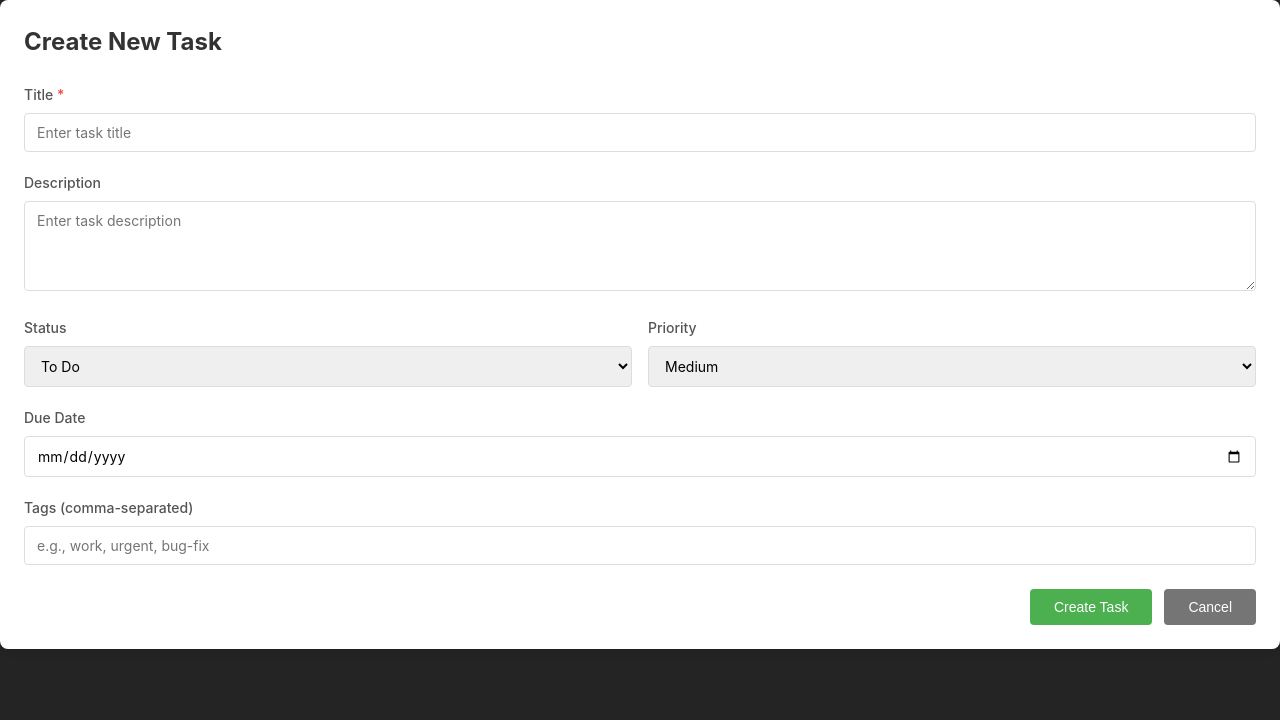
Test: TaskForm Component › Form Validation › should clear error when user starts typing in field
Click the button "Create Task": (1091, 607) [1030, 589, 1152, 625]
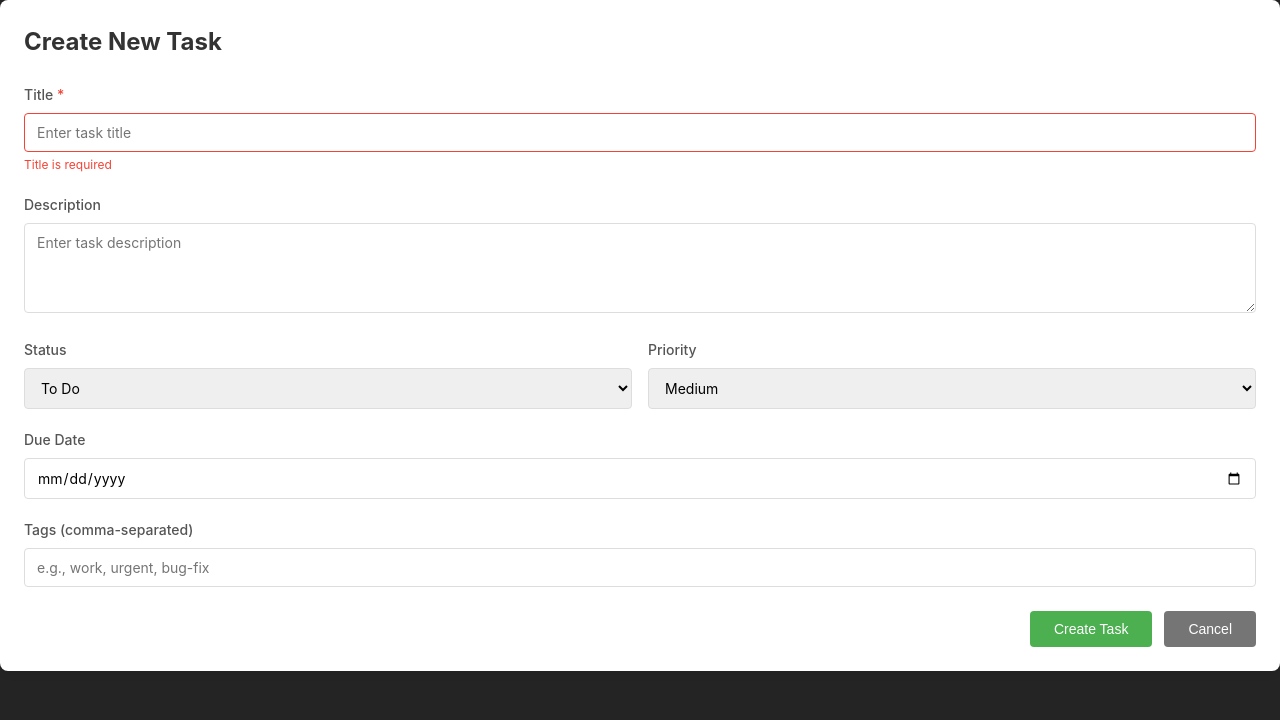
expect the text "Title is required" is shown: met, box [24, 157, 112, 172]
In the field labelled "Title *": (640, 132) [24, 113, 1256, 152], type "New title"
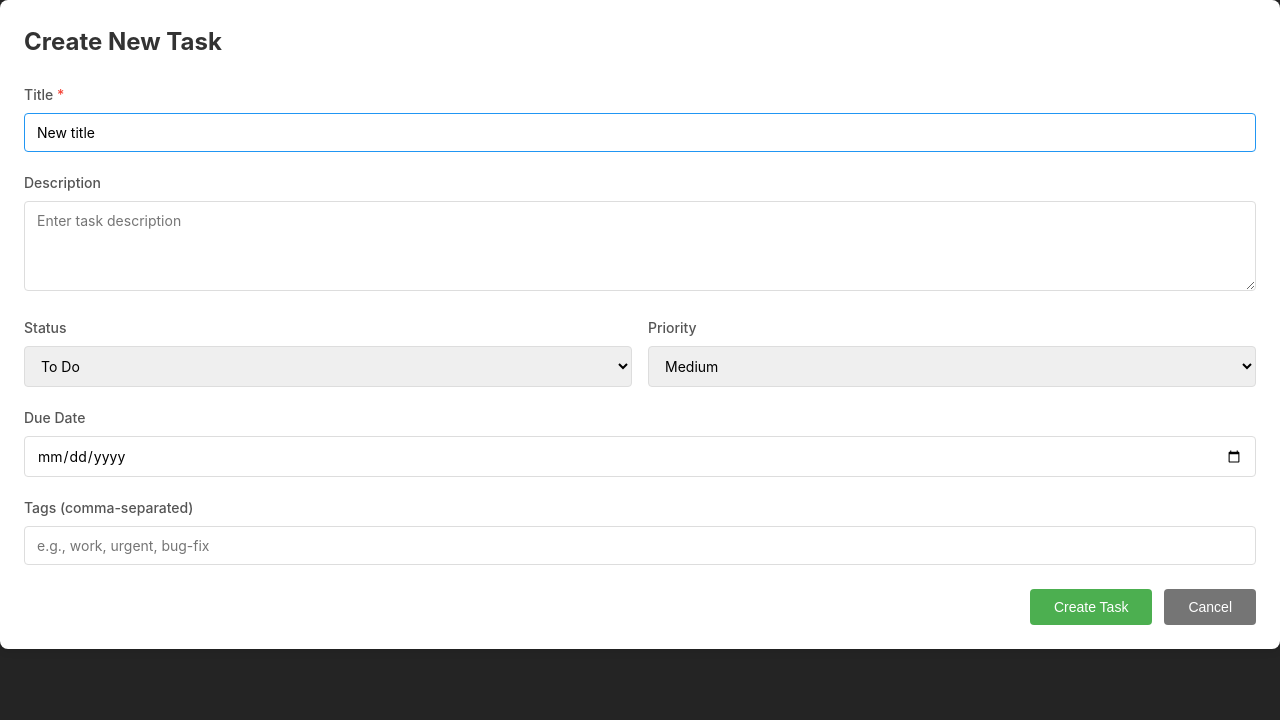
expect the text "Title is required" is gone: met
